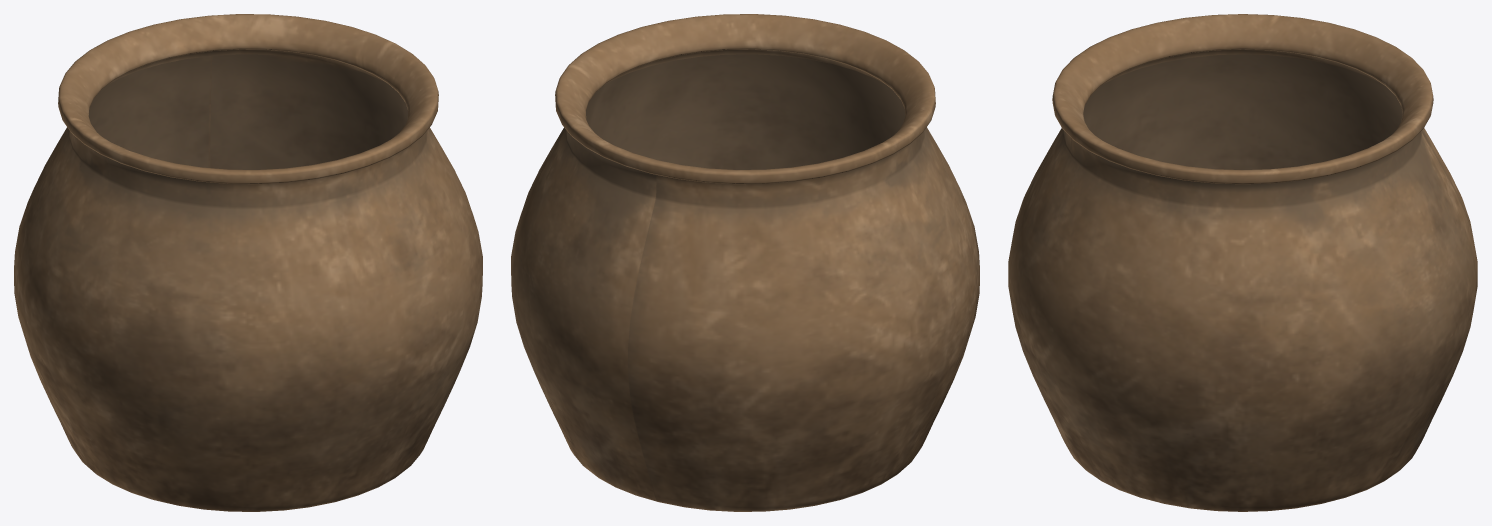
Rendered from PotBPBR_NoTex.fbx.
The picture shows the model from 3 angles, left to right: view 1: azimuth 30°, elevation 25°; view 2: azimuth 150°, elevation 25°; view 3: azimuth 270°, elevation 25°; orthographic projection.
Visible parts, largest first — view 1: SM_Pot_B_Body; view 2: SM_Pot_B_Body; view 3: SM_Pot_B_Body.
Part boxes in pixels (x1=…): SM_Pot_B_Body: x1=14, y1=14, x2=482, y2=511; SM_Pot_B_Body: x1=511, y1=14, x2=979, y2=511; SM_Pot_B_Body: x1=1008, y1=14, x2=1477, y2=511.
Size of the model in its own units: 0.2948 by 0.241 by 0.2948.
